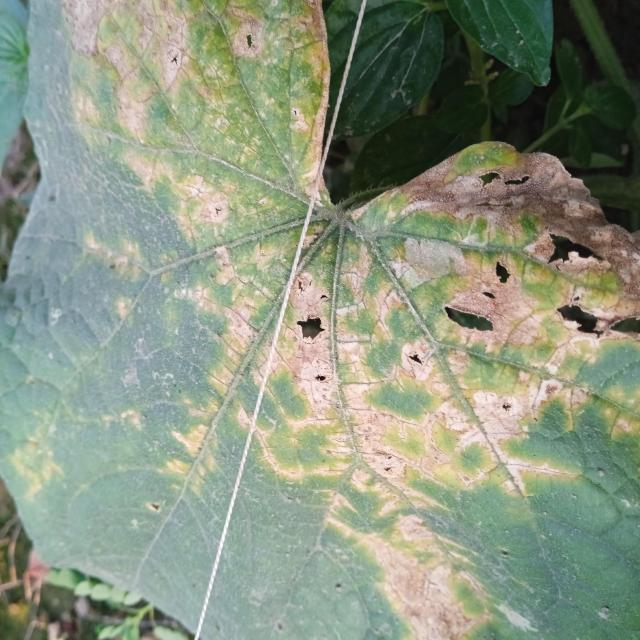cucumber_anthracnose: (294, 146, 637, 635), (73, 8, 300, 564)
